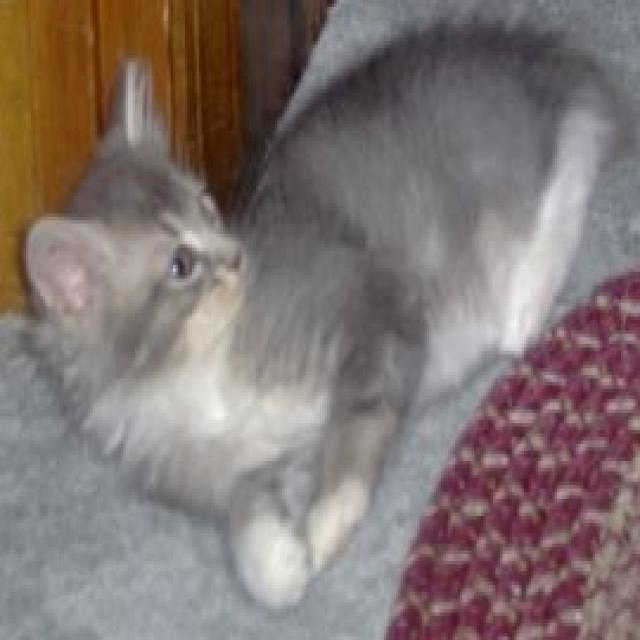American Bobtail: (16, 9, 631, 611)
